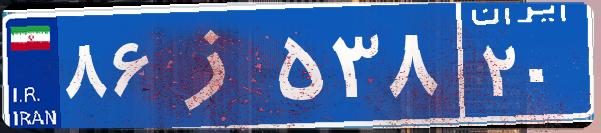0: (525, 38, 570, 115)
2: (475, 38, 525, 113)
3: (330, 28, 385, 110)
5: (273, 28, 330, 110)
6: (110, 28, 158, 105)
8: (385, 28, 445, 110), (57, 26, 110, 107)
ز: (158, 15, 273, 115)
